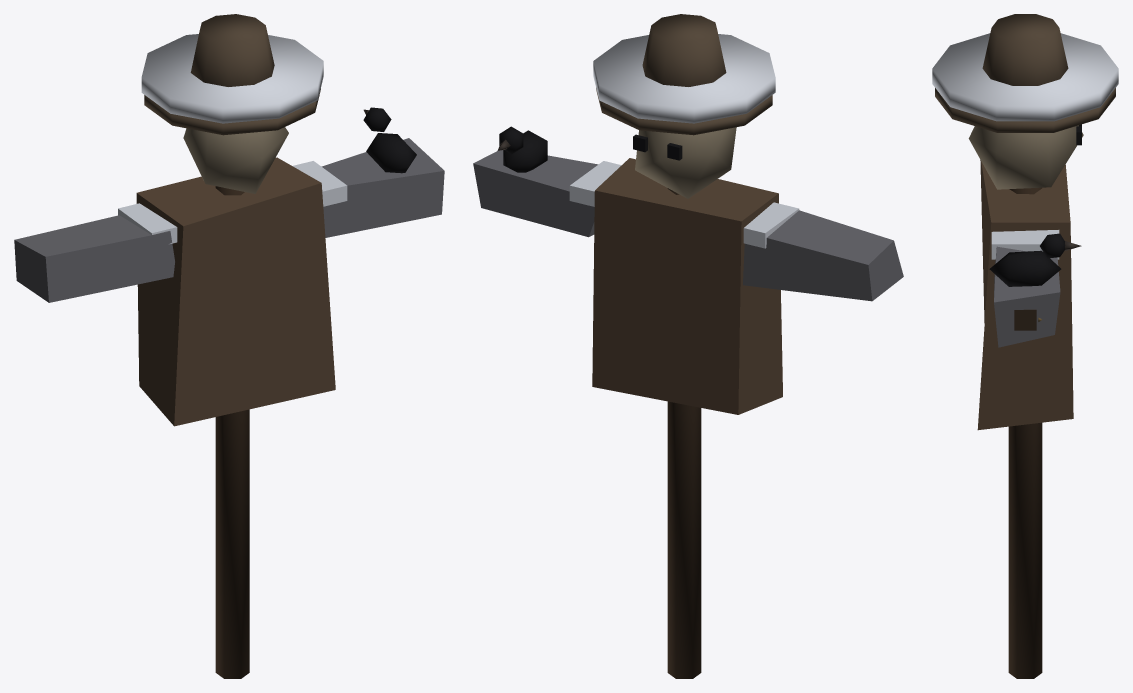
File: scarecrow.glb
The picture shows the model from 3 angles, left to right: view 1: azimuth 30°, elevation 25°; view 2: azimuth 150°, elevation 25°; view 3: azimuth 270°, elevation 25°; orthographic projection.
Visible parts, largest first — view 1: scarecrow; view 2: scarecrow; view 3: scarecrow.
Boxes of the visible parts, bbox=[...] form: scarecrow: bbox=[14, 14, 444, 678]; scarecrow: bbox=[473, 14, 903, 678]; scarecrow: bbox=[932, 14, 1118, 678].
Size of the model in its own units: 1.63 by 2.52 by 0.66.
